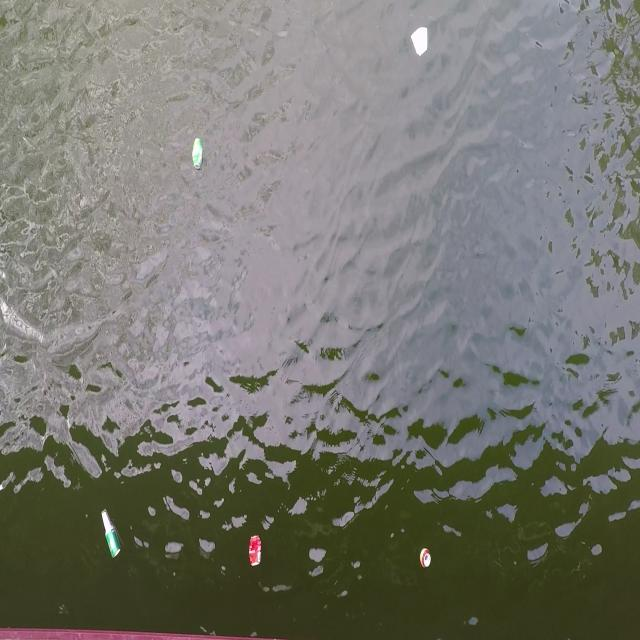Non plastique: (244, 527, 268, 576), (406, 22, 434, 61), (186, 132, 207, 178), (418, 546, 433, 571)
